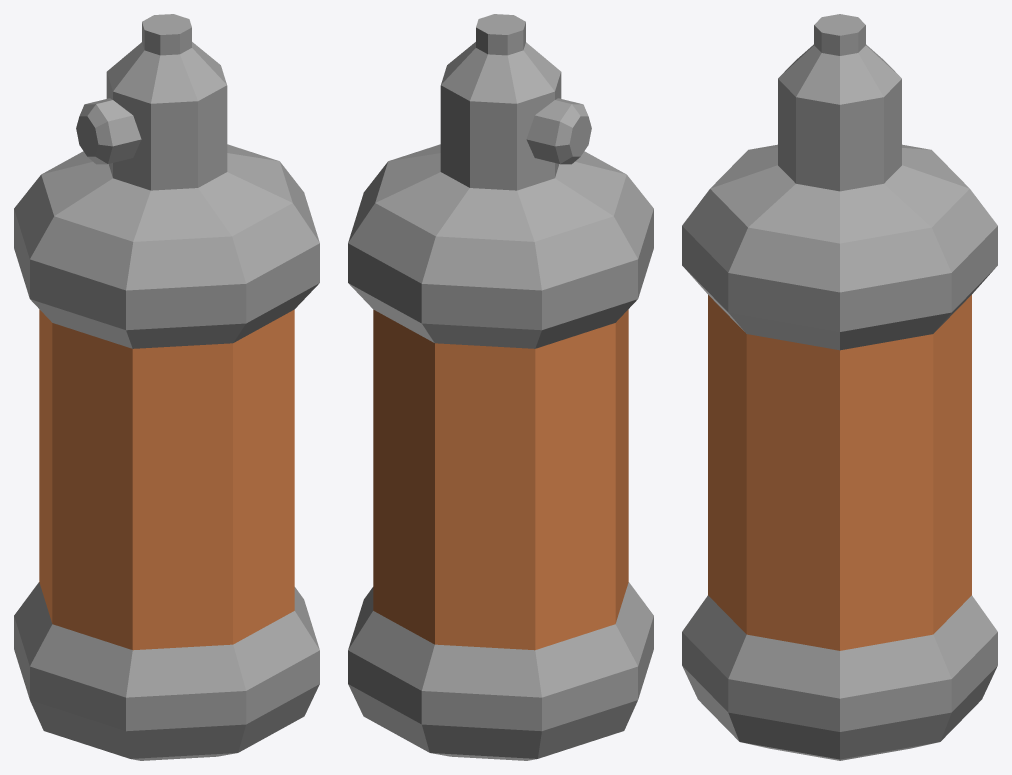
The model's file is SM_APSpray.fbx.
3 renders of one model, left to right at view 1: azimuth 30°, elevation 25°; view 2: azimuth 150°, elevation 25°; view 3: azimuth 270°, elevation 25°, orthographic.
Parts seen in each view (by area): view 1: SM_APSpray; view 2: SM_APSpray; view 3: SM_APSpray.
Part boxes in pixels (box(x1,y1,x2,y2)): SM_APSpray: box(14, 14, 319, 760); SM_APSpray: box(348, 14, 653, 760); SM_APSpray: box(682, 14, 997, 760).
Size of the model in its own units: 16.32 by 39.52 by 16.32.
